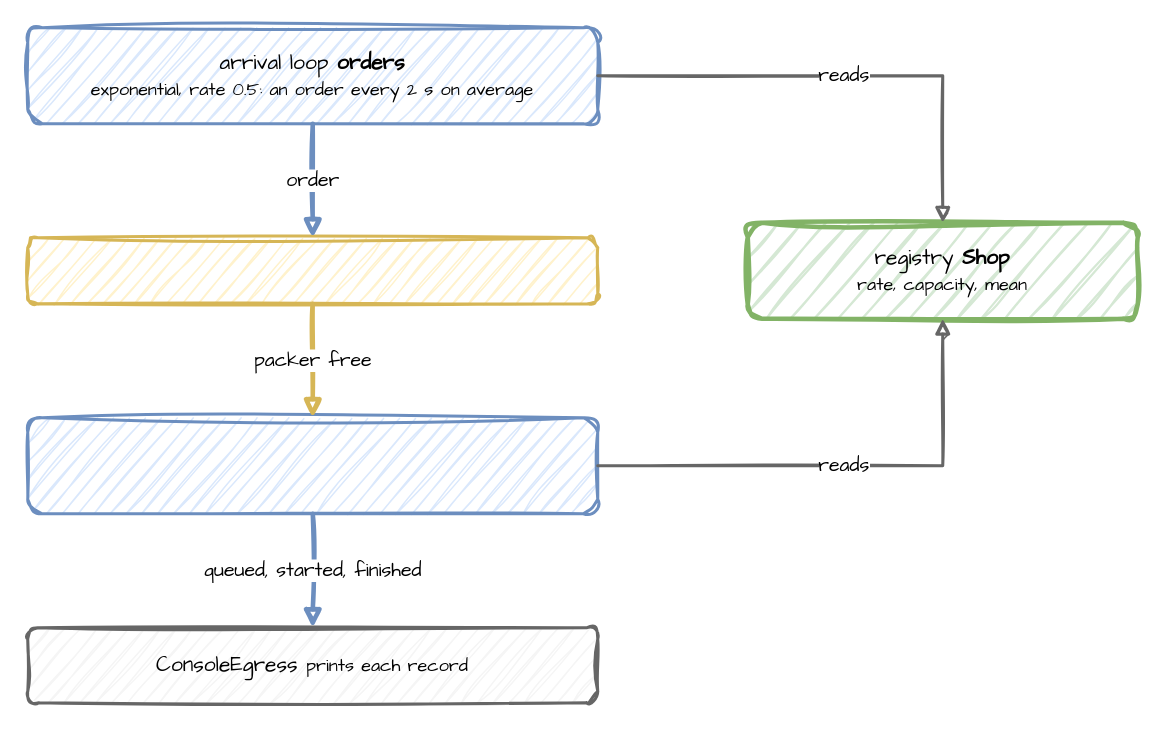
This 1166x729 diagram has some shape labels left out. The box of each missing label's shape, as (x1, y1, x2, y2) in pixels:
packer queue: (26, 236, 598, 304)
task pack_order takes the packer, packs for 1.5 s: (26, 416, 598, 514)
